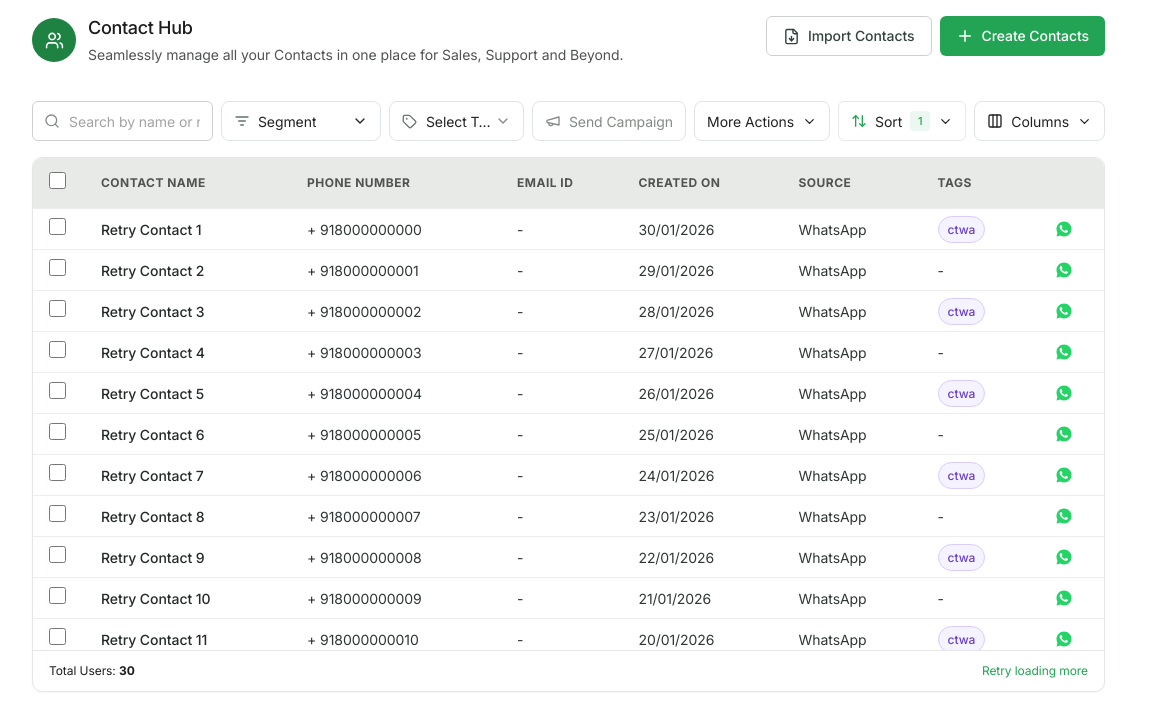
Test: ContactHub › keeps loaded contacts visible and retries a failed infinite-scroll request
(page scrolled)
expect the text "Retry Contact 1" is shown: met, box [101, 220, 202, 238]
Click the button "Retry loading more" at (1035, 671), box [982, 663, 1088, 679]
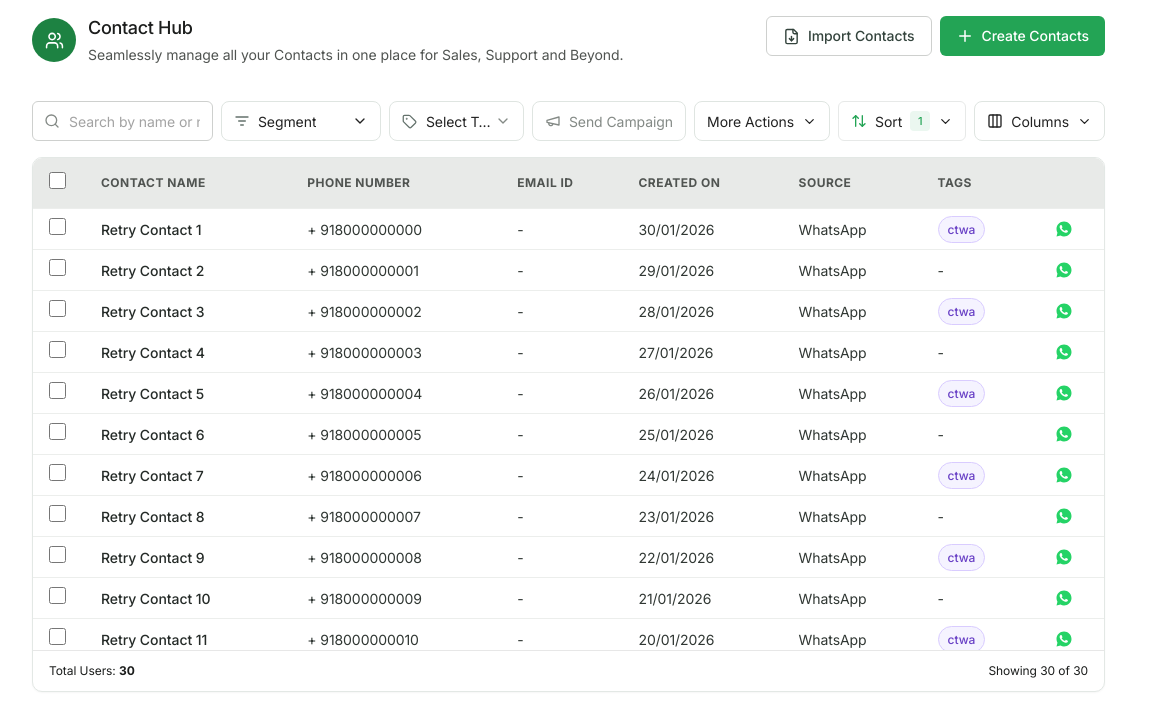
expect the button "Retry loading more" is gone: met
expect the text "Showing 30 of 30" is shown: met, box [988, 663, 1088, 679]
